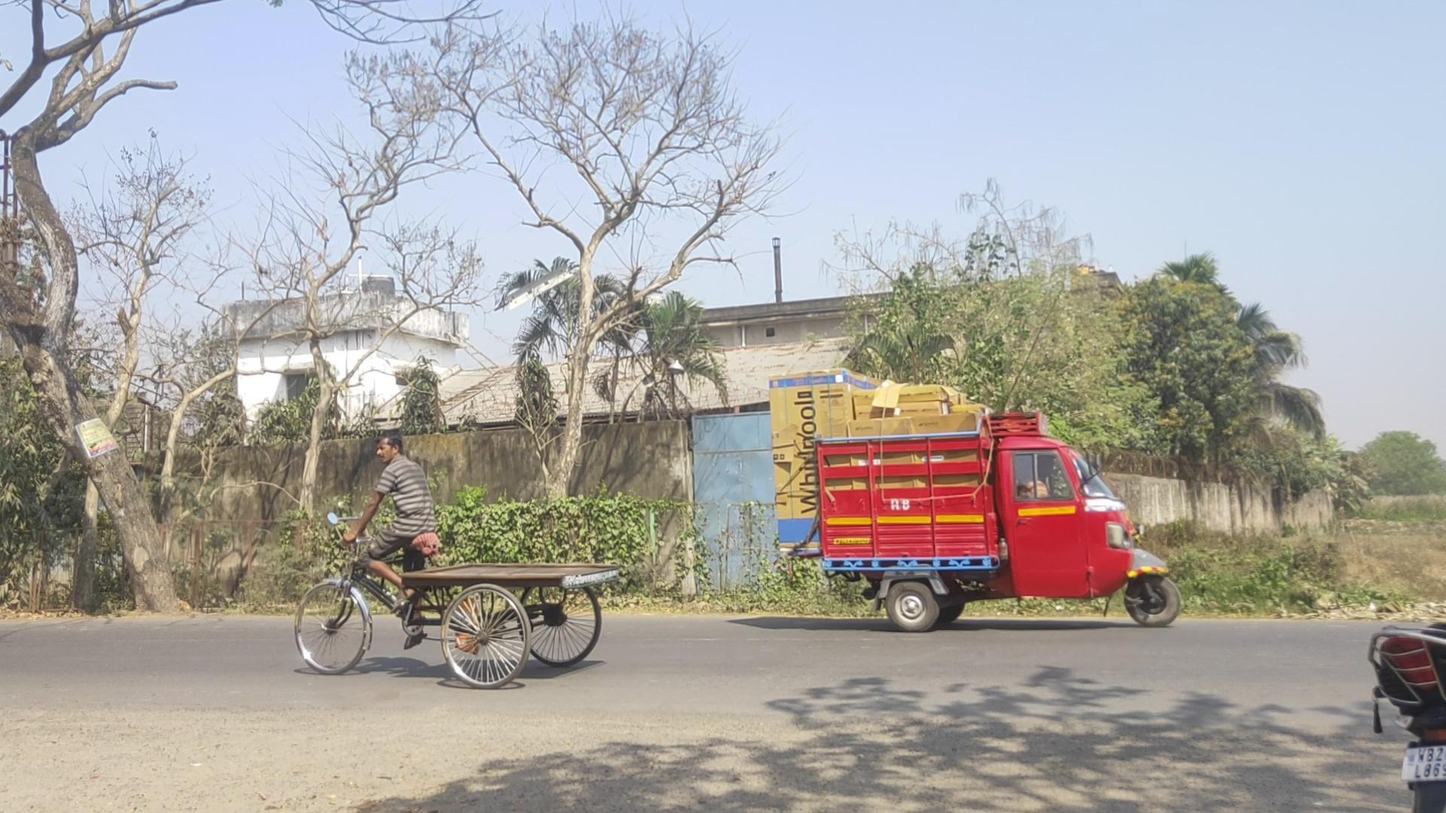van: (769, 367, 1182, 633)
